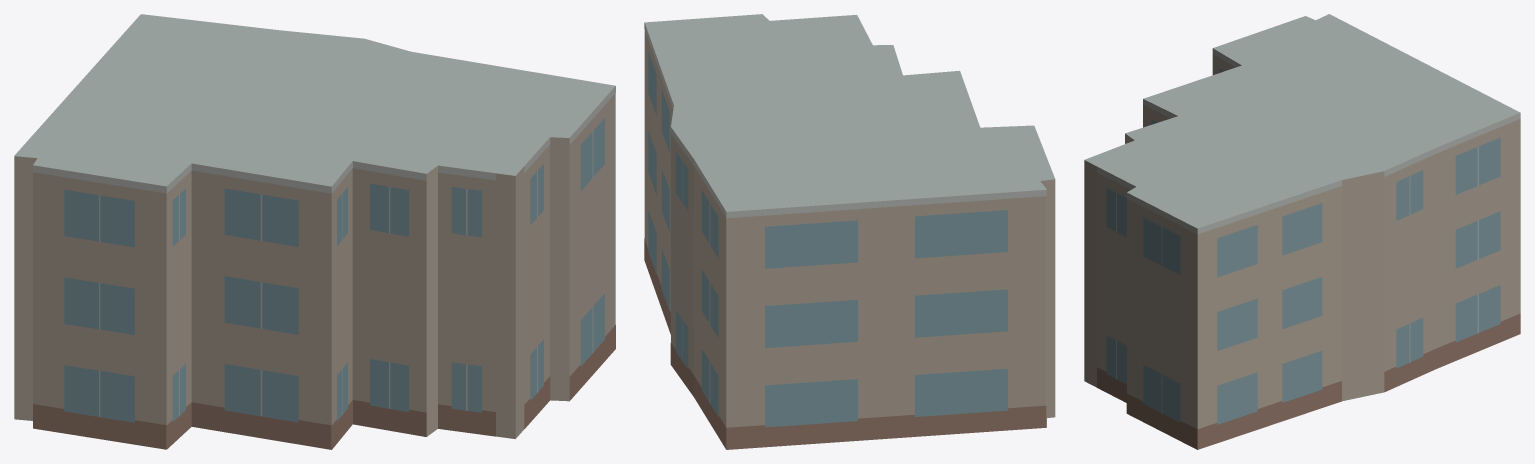
File: survey-upis-32695959.glb
3 views of the same model, side by side, from view 1: azimuth 30°, elevation 25°; view 2: azimuth 150°, elevation 25°; view 3: azimuth 270°, elevation 25° (orthographic). The views are drawn at different scales.
Visible parts, largest first — view 1: survey-upis-32695959.tmp; view 2: survey-upis-32695959.tmp; view 3: survey-upis-32695959.tmp.
Part boxes in pixels (x1,y1,x2,y2): survey-upis-32695959.tmp: (14,14,615,449); survey-upis-32695959.tmp: (644,14,1055,449); survey-upis-32695959.tmp: (1084,14,1520,449).
Bounding box in the file's own units: 19.04 × 9.15 × 16.36.
